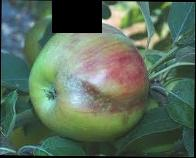rotten apple: (27, 21, 156, 142)
